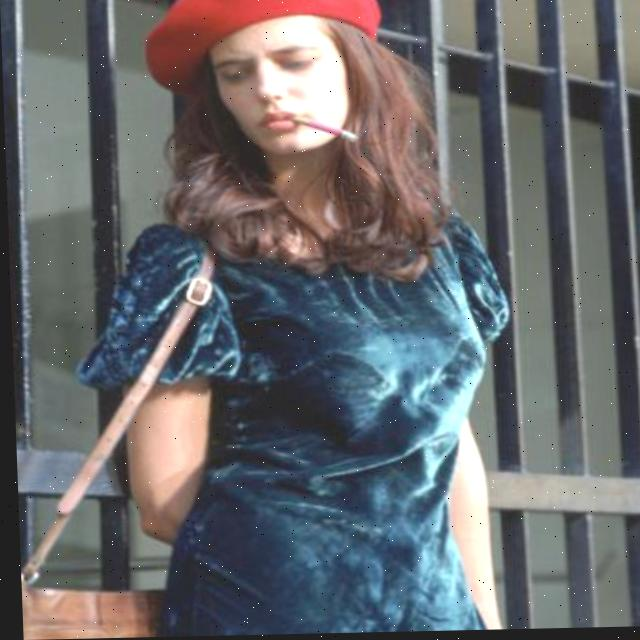cigarette: (284, 114, 361, 147)
